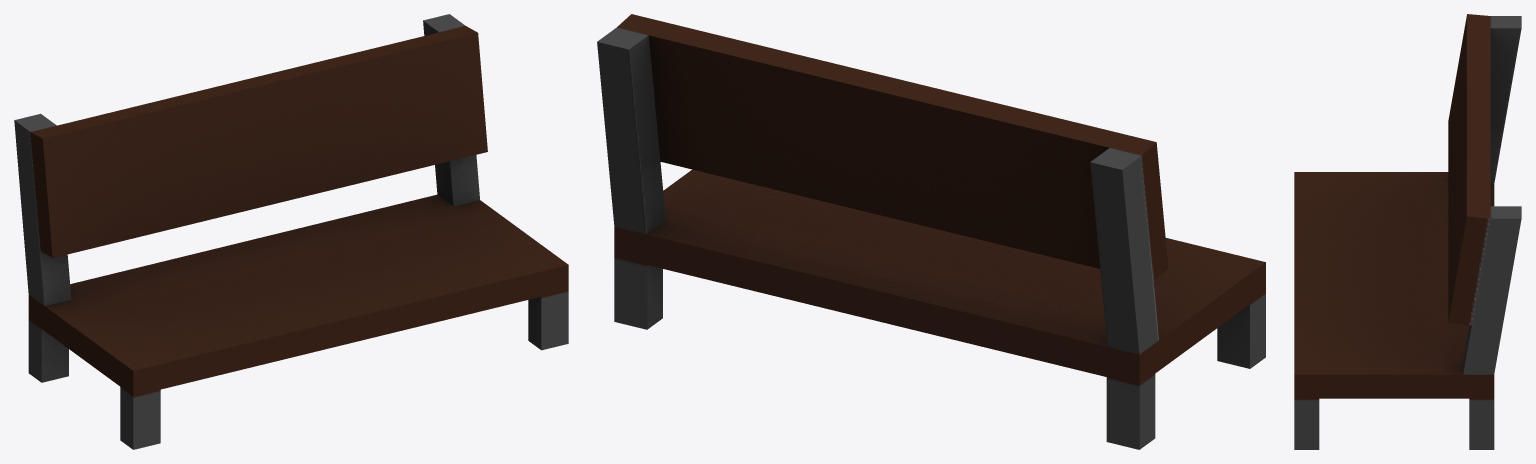
File: JeepLargeSeat.fbx
3 renders of one model, left to right at view 1: azimuth 30°, elevation 25°; view 2: azimuth 150°, elevation 25°; view 3: azimuth 270°, elevation 25°, orthographic. The views are drawn at different scales.
Visible parts, largest first — view 1: Large Seat; view 2: Large Seat; view 3: Large Seat.
Part boxes in pixels (x1,y1,x2,y2): Large Seat: (14, 14, 568, 449); Large Seat: (597, 14, 1265, 449); Large Seat: (1294, 14, 1521, 449).
Bounding box in the file's own units: 165 × 88.62 × 78.18.
